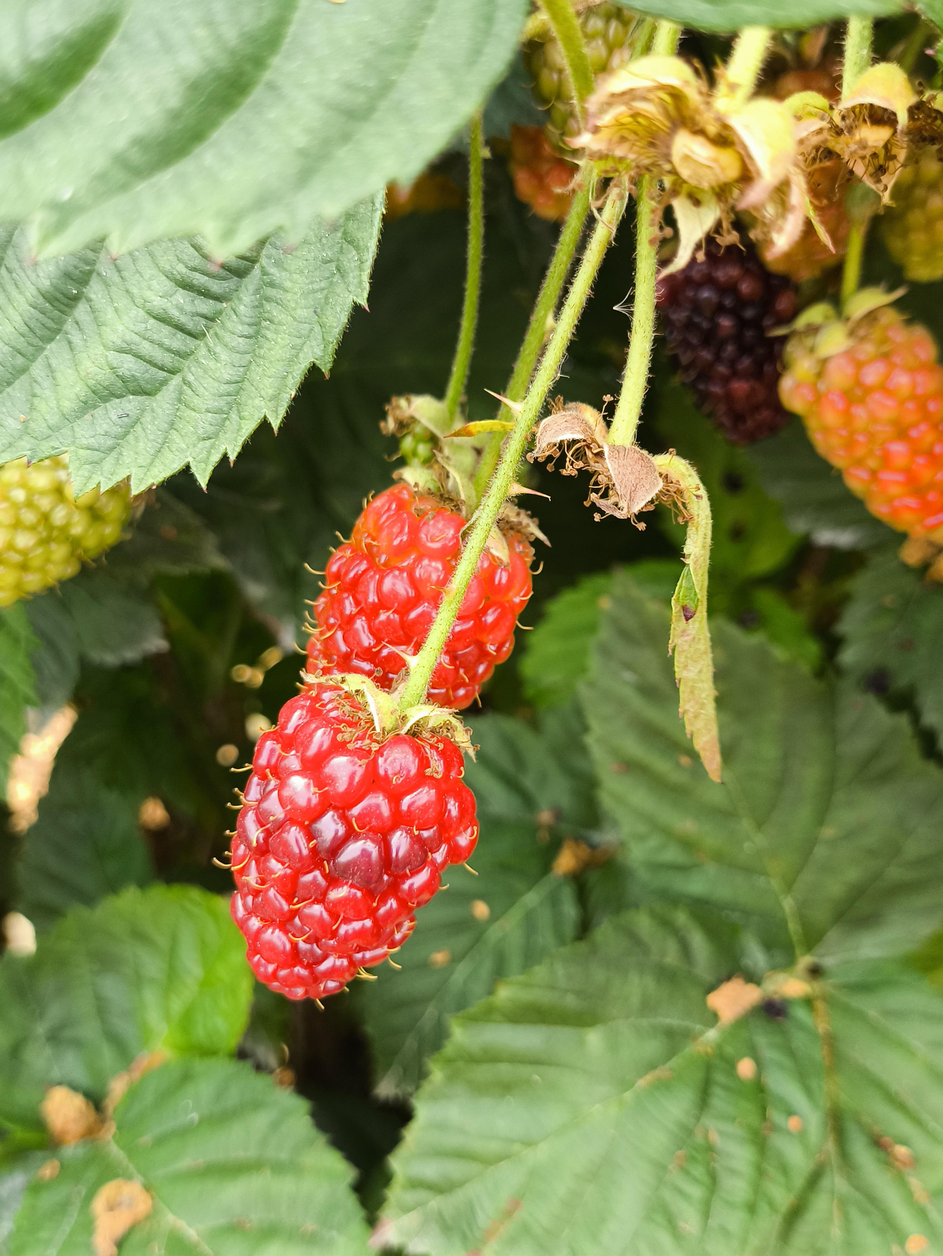marron: (657, 239, 796, 443)
naranja: (230, 680, 479, 999), (780, 308, 943, 541)
verde: (0, 456, 131, 607)
